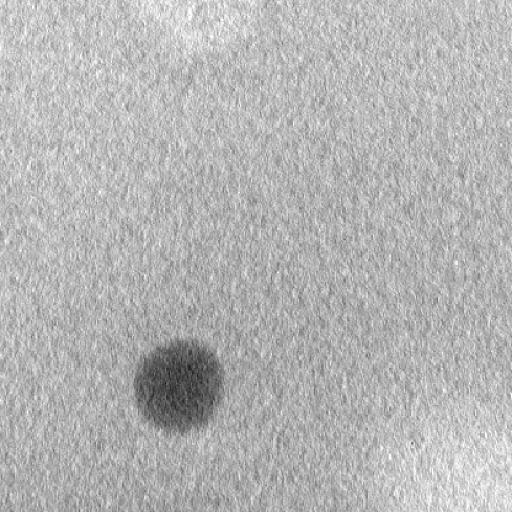Nanoparticles: (136, 338, 226, 428)
